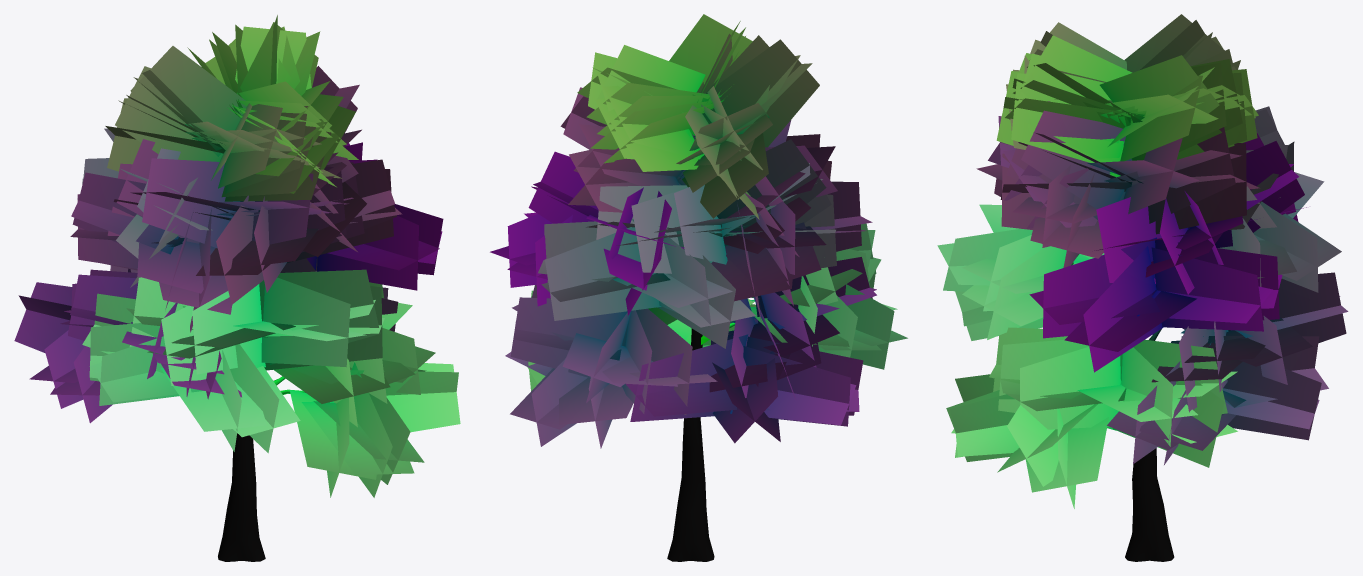
File: Tree_4_8.fbx
The picture shows the model from 3 angles, left to right: view 1: azimuth 30°, elevation 25°; view 2: azimuth 150°, elevation 25°; view 3: azimuth 270°, elevation 25°; orthographic projection. The views are drawn at different scales.
Visible parts, largest first — view 1: _8; view 2: _8; view 3: _8.
Part boxes in pixels (left/top/right/bottom): _8: left=14, top=15, right=460, bottom=561; _8: left=490, top=14, right=907, bottom=561; _8: left=937, top=14, right=1348, bottom=561.
Bounding box in the file's own units: 1664 × 2231 × 1585.
